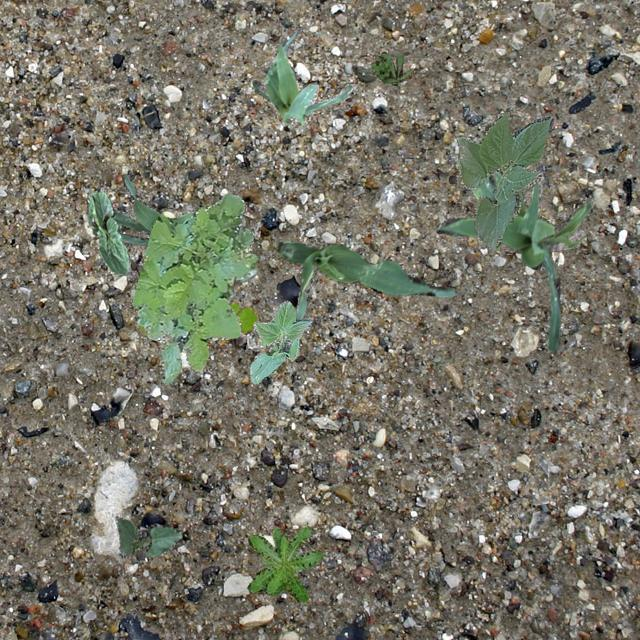crop: (436, 168, 594, 350), (276, 240, 454, 318), (456, 112, 552, 250), (252, 26, 351, 124), (92, 173, 192, 246), (250, 300, 310, 382), (84, 192, 128, 274), (115, 516, 182, 558)
weed: (130, 192, 256, 382), (246, 526, 322, 602), (138, 300, 256, 334), (370, 51, 412, 82), (224, 266, 254, 300)
